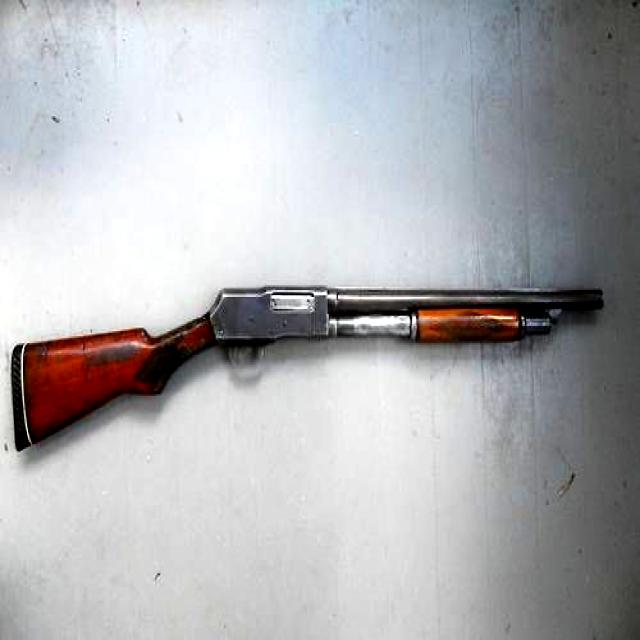shotgun: (13, 266, 607, 466)
